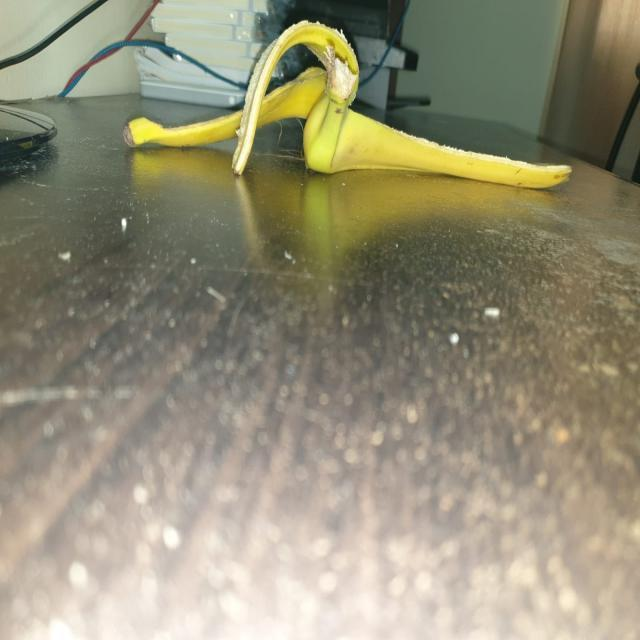banana-peel: (122, 19, 572, 190)
